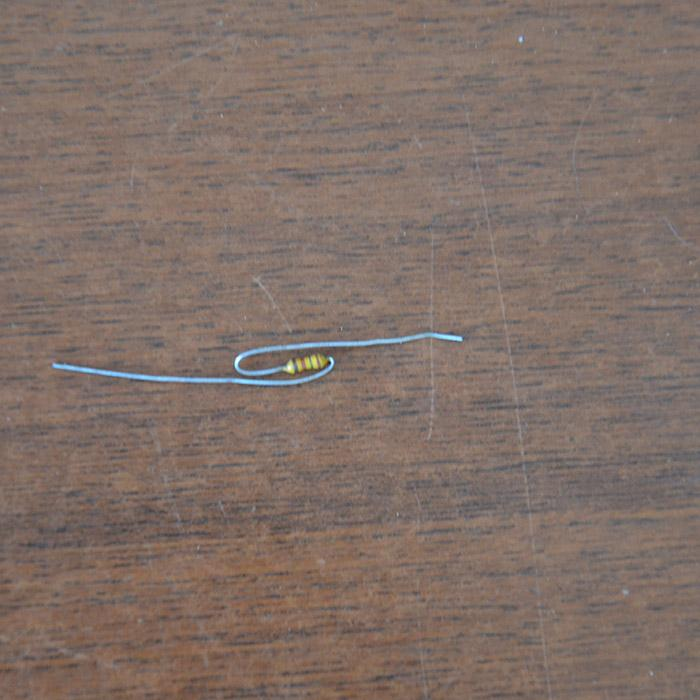resistor: (282, 353, 330, 374)
